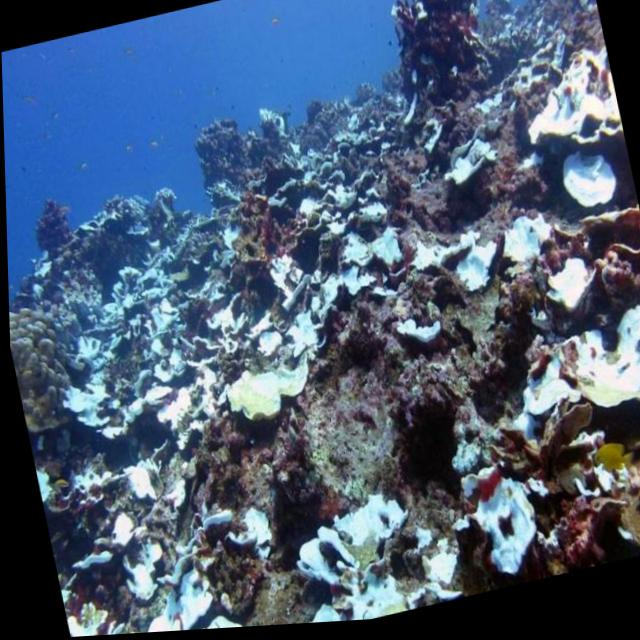Dead Coral: (289, 335, 499, 504), (195, 115, 273, 193), (23, 181, 90, 267)
